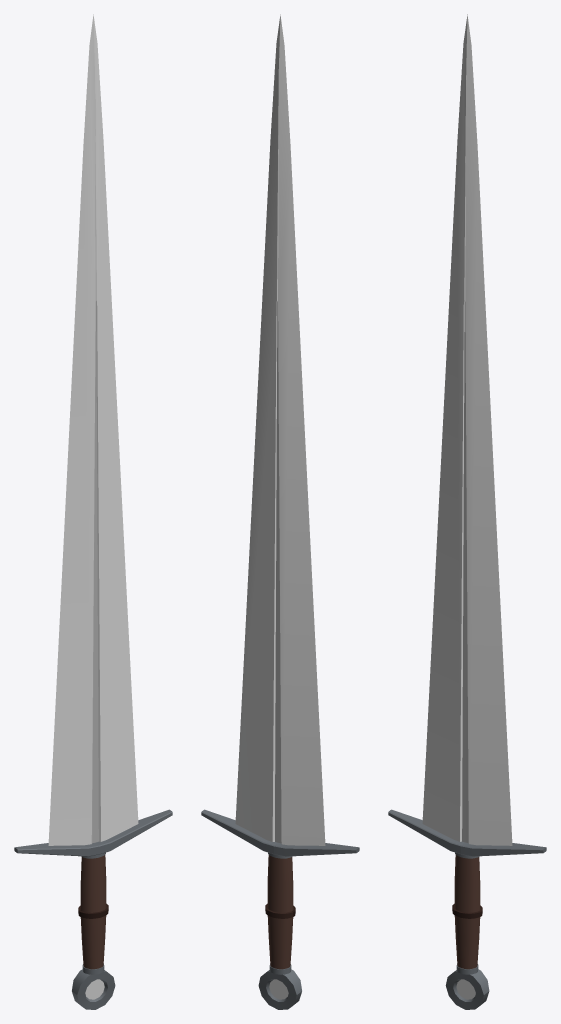
The model's file is SM_Sword06_Dagesse__3Silver.fbx.
The picture shows the model from 3 angles, left to right: view 1: azimuth 30°, elevation 25°; view 2: azimuth 150°, elevation 25°; view 3: azimuth 330°, elevation 25°; orthographic projection.
Parts seen in each view (by area): view 1: Cube.359, Cylinder.486, Cube.358, Cylinder.487; view 2: Cube.359, Cylinder.486, Cube.358, Cylinder.487; view 3: Cube.359, Cylinder.486, Cube.358, Cylinder.487.
Boxes of the visible parts, x1,y1,x2,y2 form: Cube.359: (48,14,138,845); Cylinder.486: (78,852,108,974); Cube.358: (14,809,172,856); Cylinder.487: (72,969,115,1009); Cube.359: (235,14,325,845); Cylinder.486: (265,852,295,974); Cube.358: (201,809,359,856); Cylinder.487: (258,969,301,1009); Cube.359: (422,14,512,845); Cylinder.486: (452,852,482,974); Cube.358: (388,809,546,856); Cylinder.487: (445,969,489,1009).
Bounding box in the file's own units: 0.154 × 0.9449 × 0.0231.
